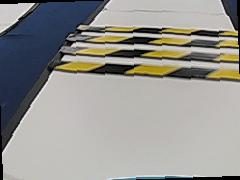bump: (48, 19, 239, 87)
